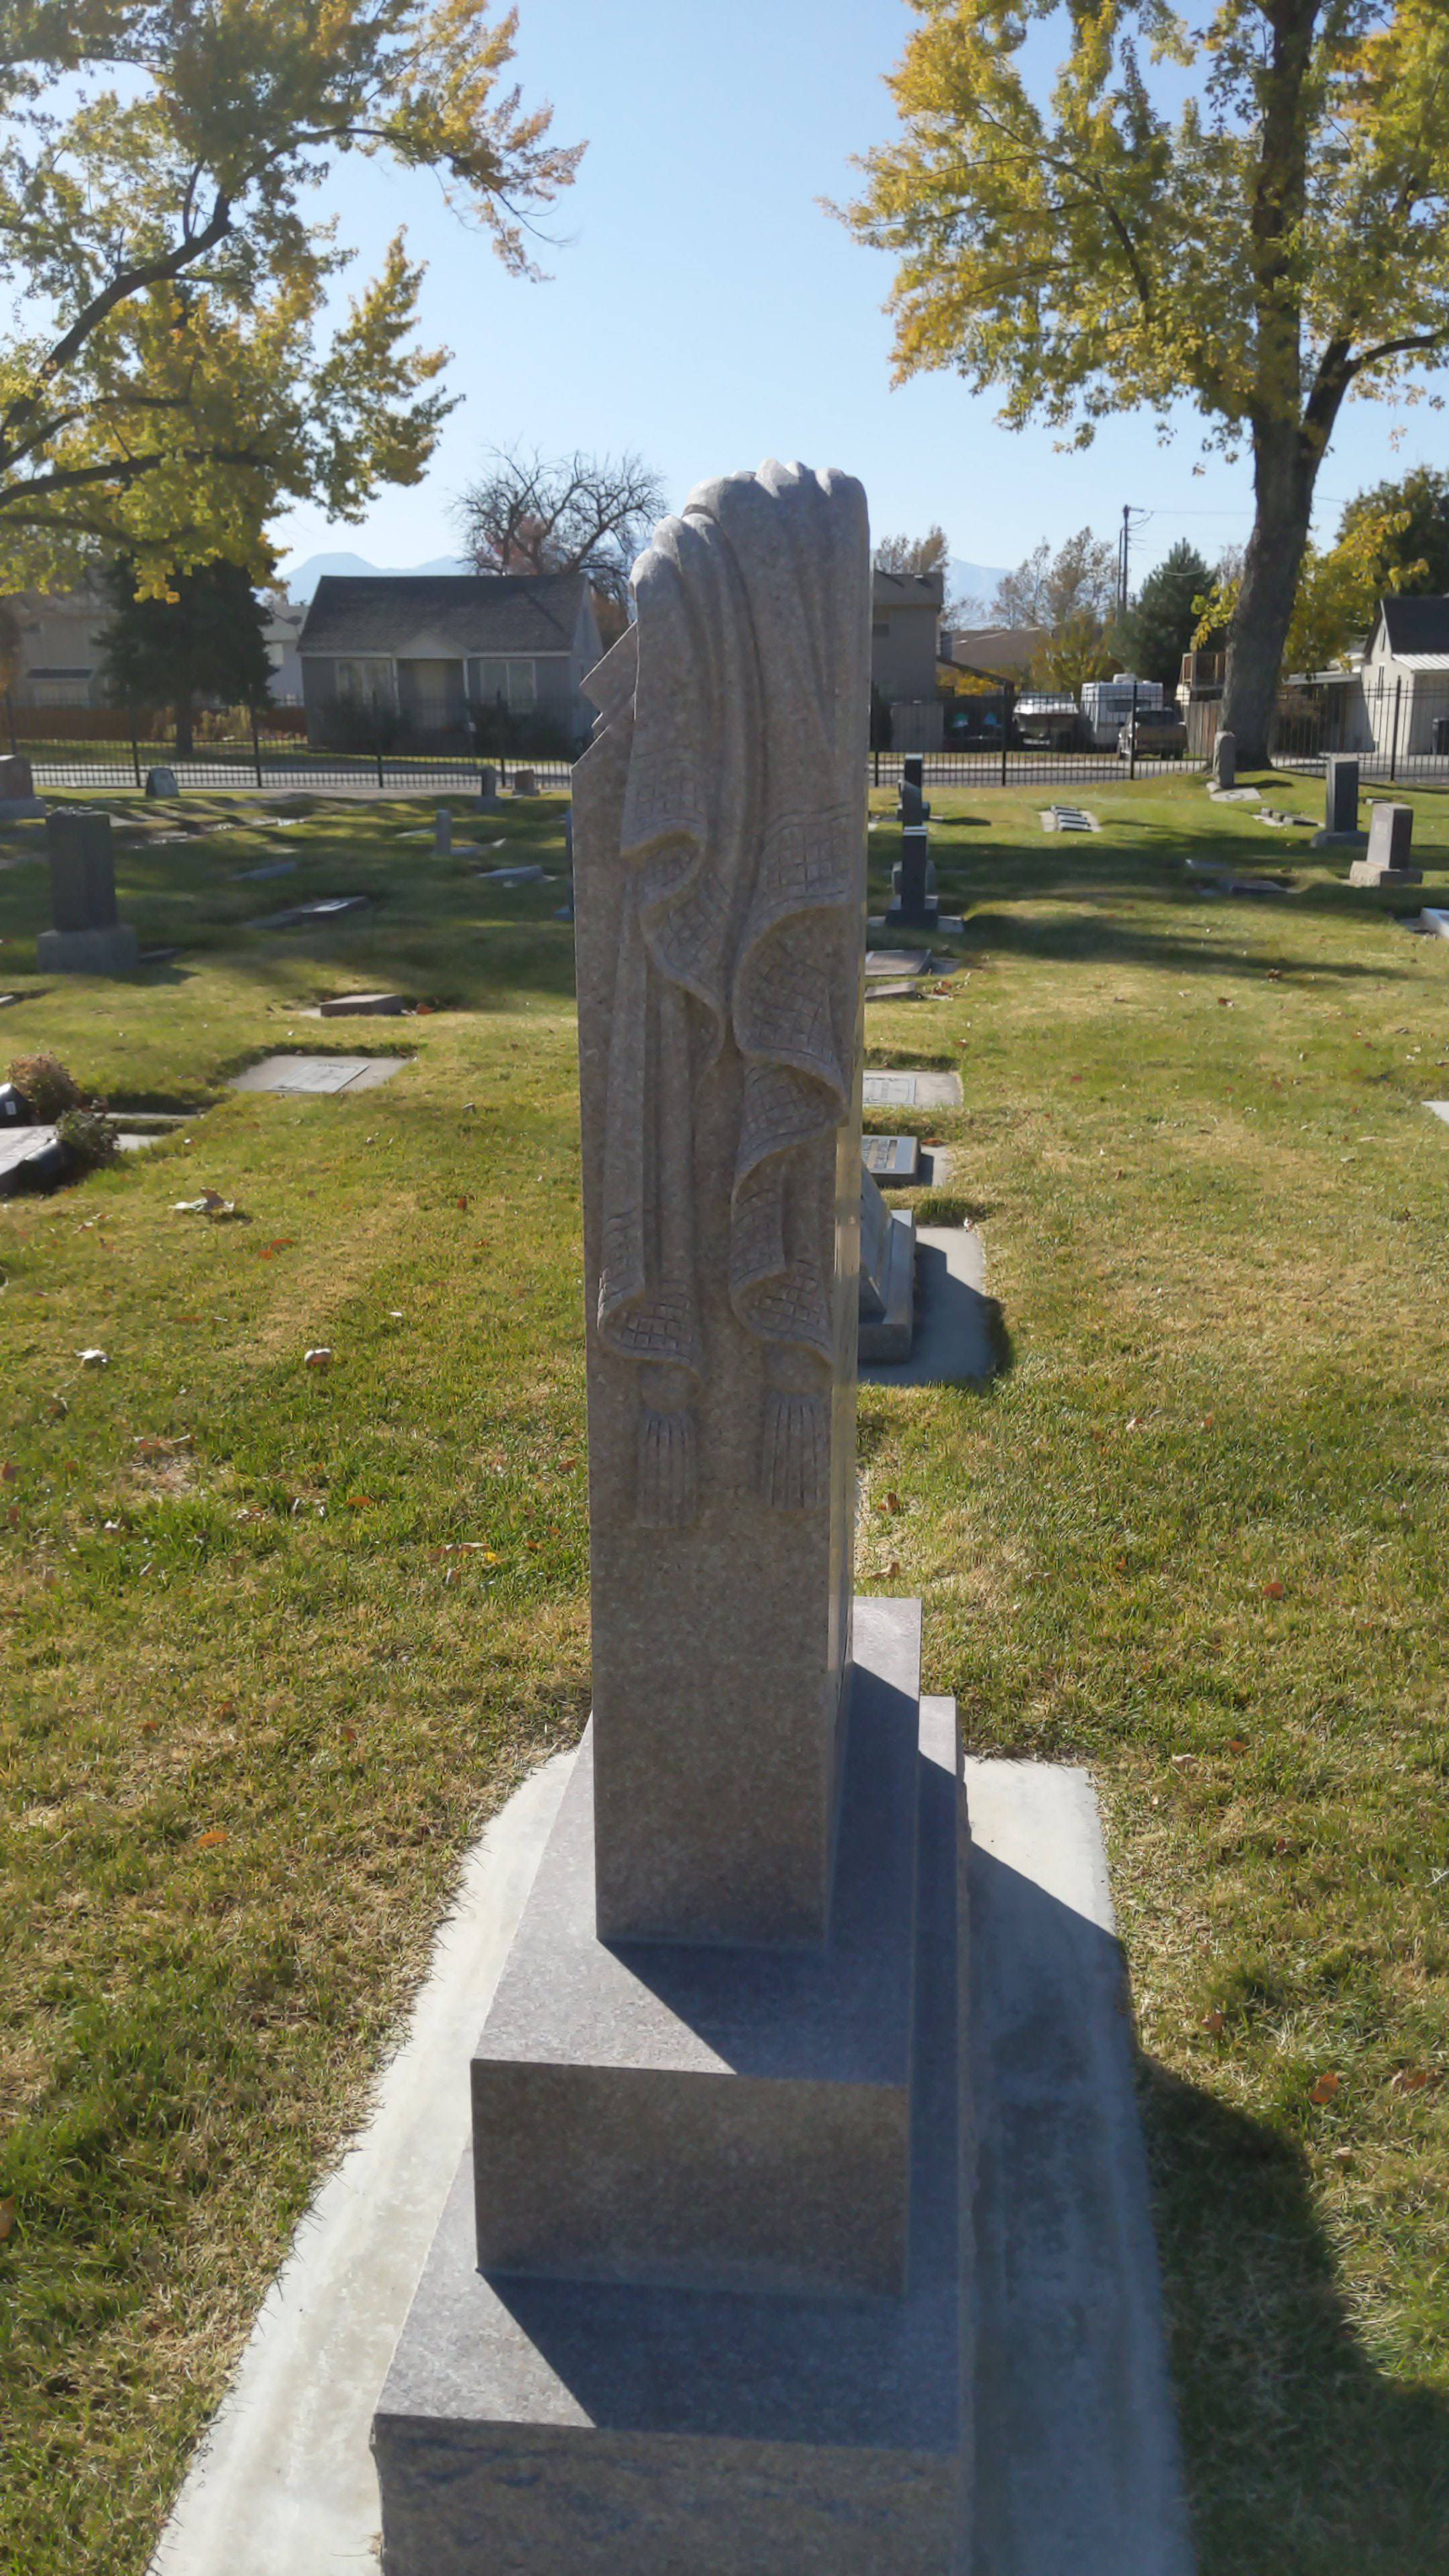obelisk: (575, 472, 862, 1957)
